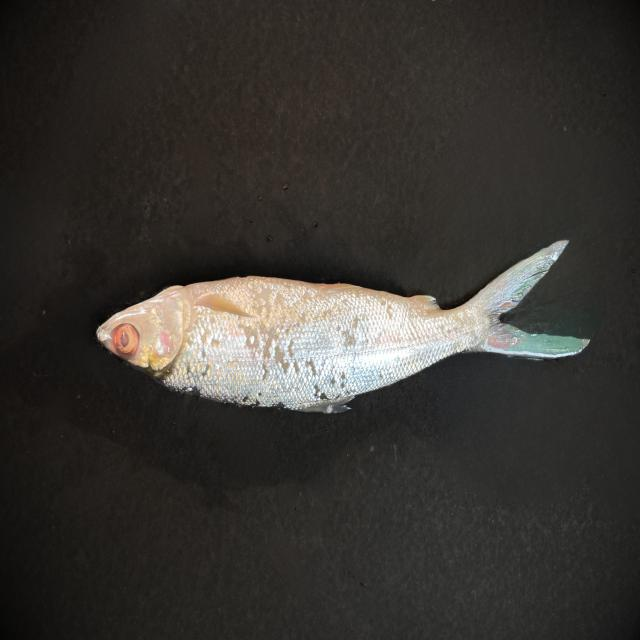590 g: (96, 240, 590, 414)
